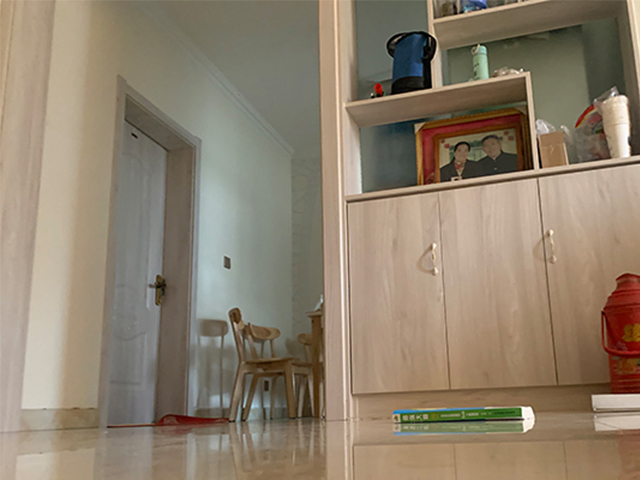book: (391, 405, 536, 424)
cabinet: (316, 1, 640, 423)
carpet: (106, 414, 227, 430)
stool: (227, 306, 316, 422)
